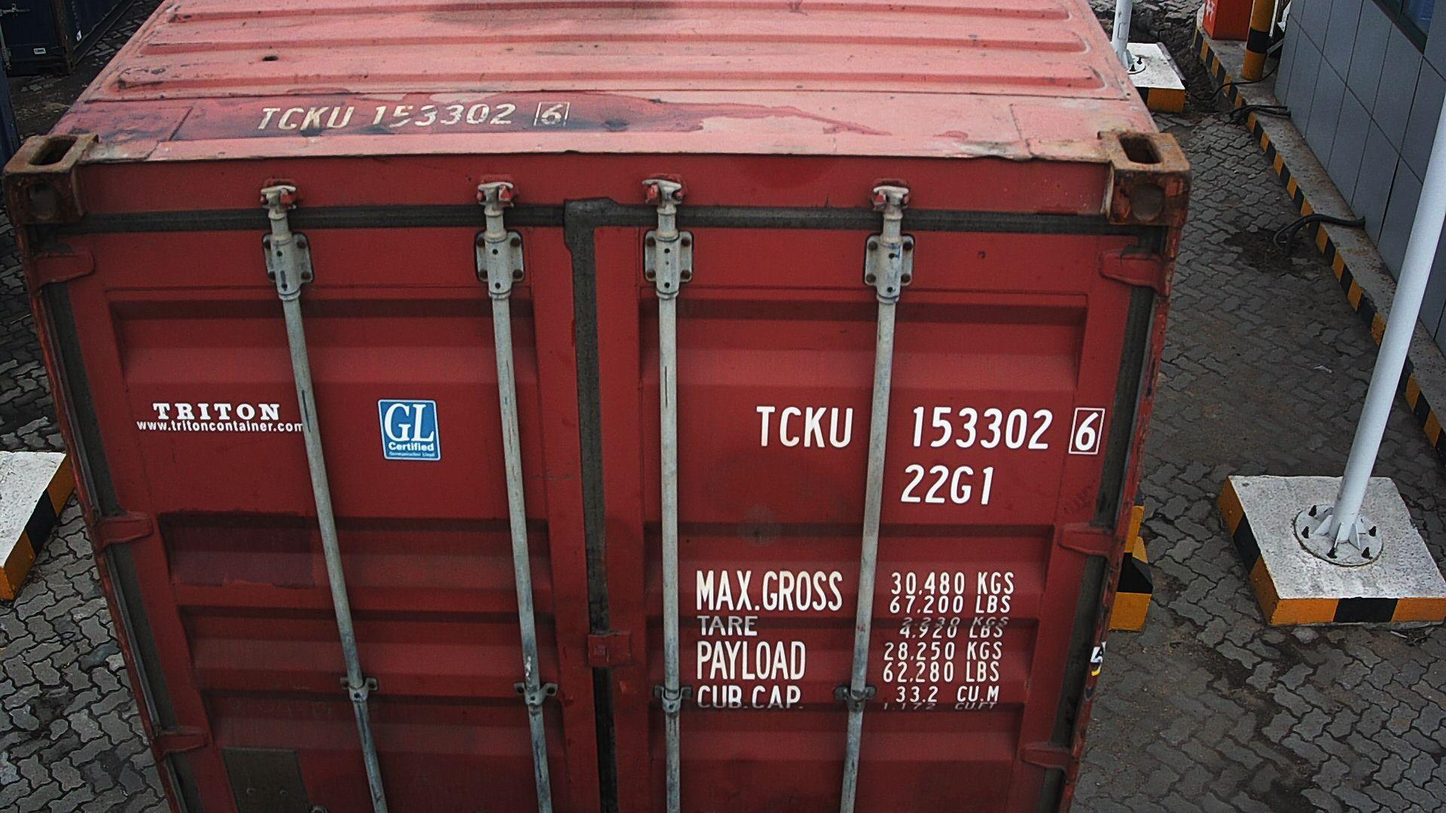container-numbers: (750, 400, 1112, 455), (249, 99, 581, 134), (898, 461, 999, 508)
